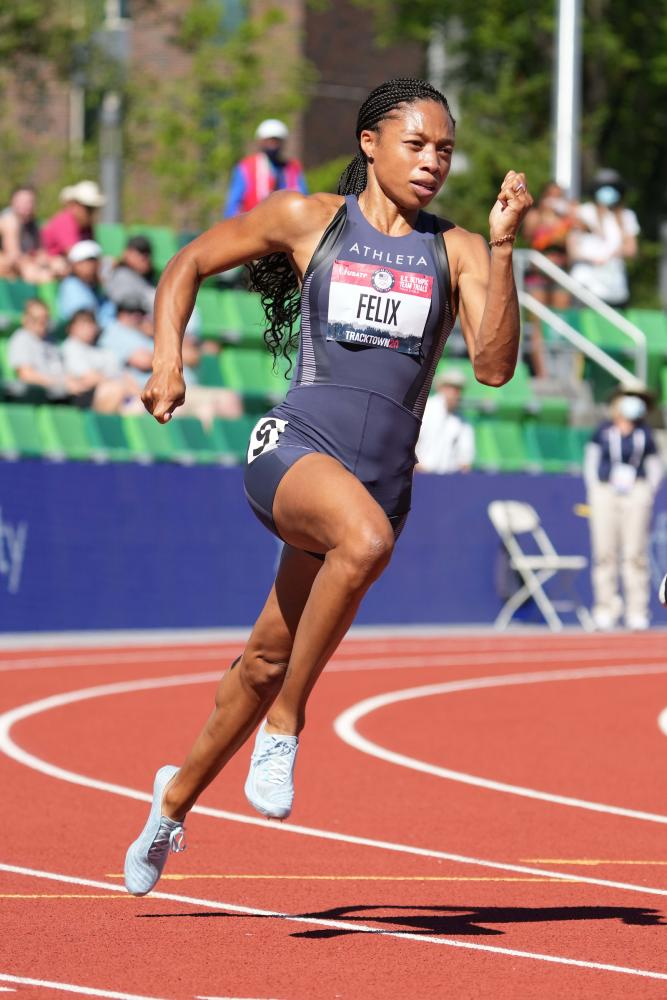runner: (134, 78, 538, 867)
